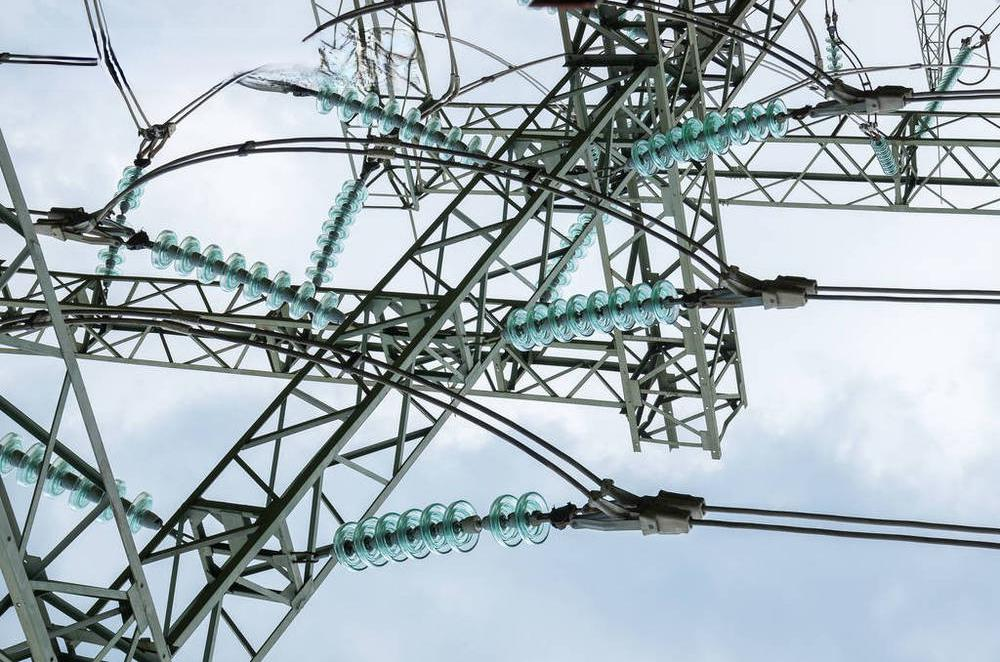insulator: (148, 225, 343, 334), (1, 427, 159, 541), (312, 78, 486, 171), (628, 96, 791, 182), (504, 278, 680, 355), (301, 175, 373, 288), (531, 211, 605, 302), (917, 44, 979, 126), (111, 161, 152, 212), (869, 134, 905, 184), (92, 246, 128, 278), (821, 35, 846, 75)
insulator_stringdrop: (440, 491, 523, 558)
